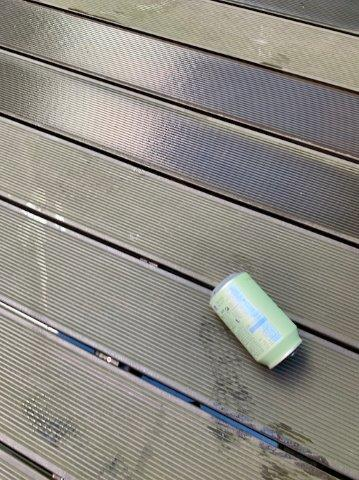kaleng: (211, 273, 300, 369)
